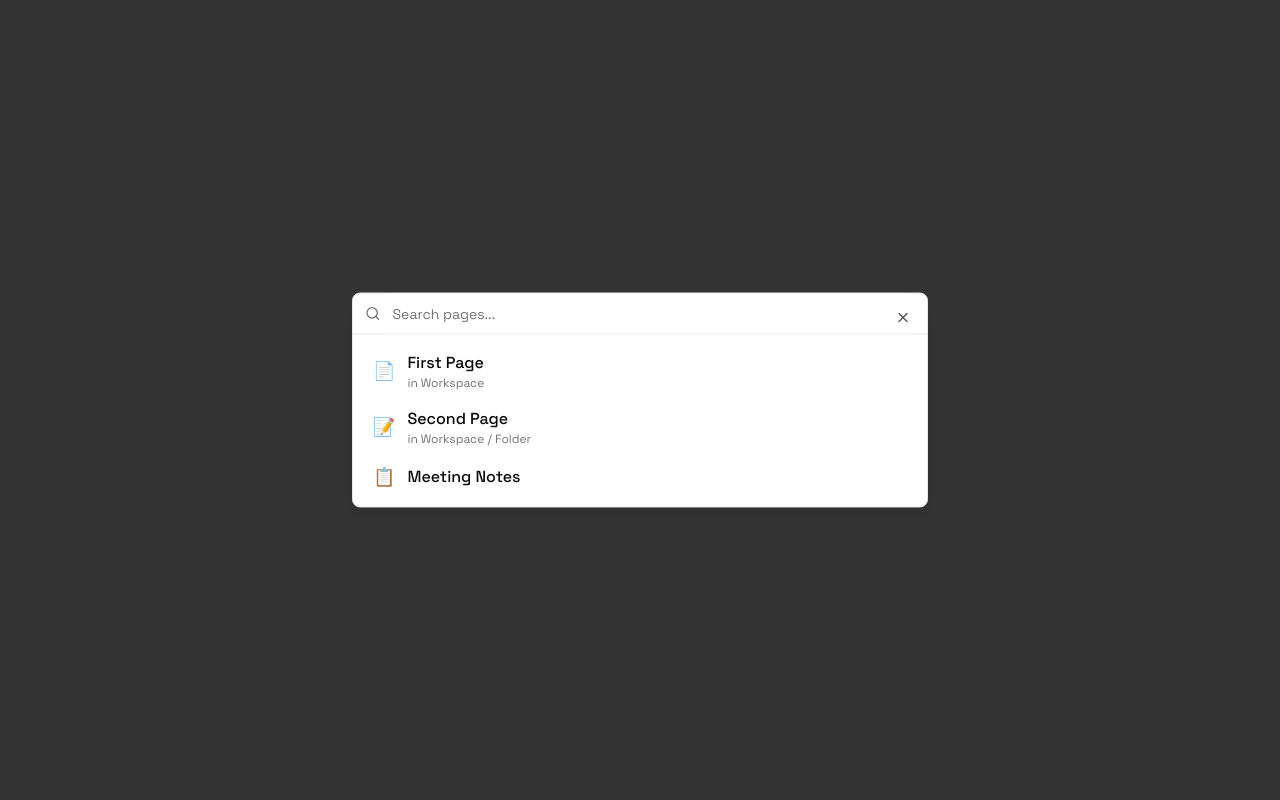
Test: SearchDialog › search functionality › should filter pages by content
In the field with placeholder "Search pages...": [648, 314] box x1=380 y1=294 x2=915 y2=334, type "Hello"
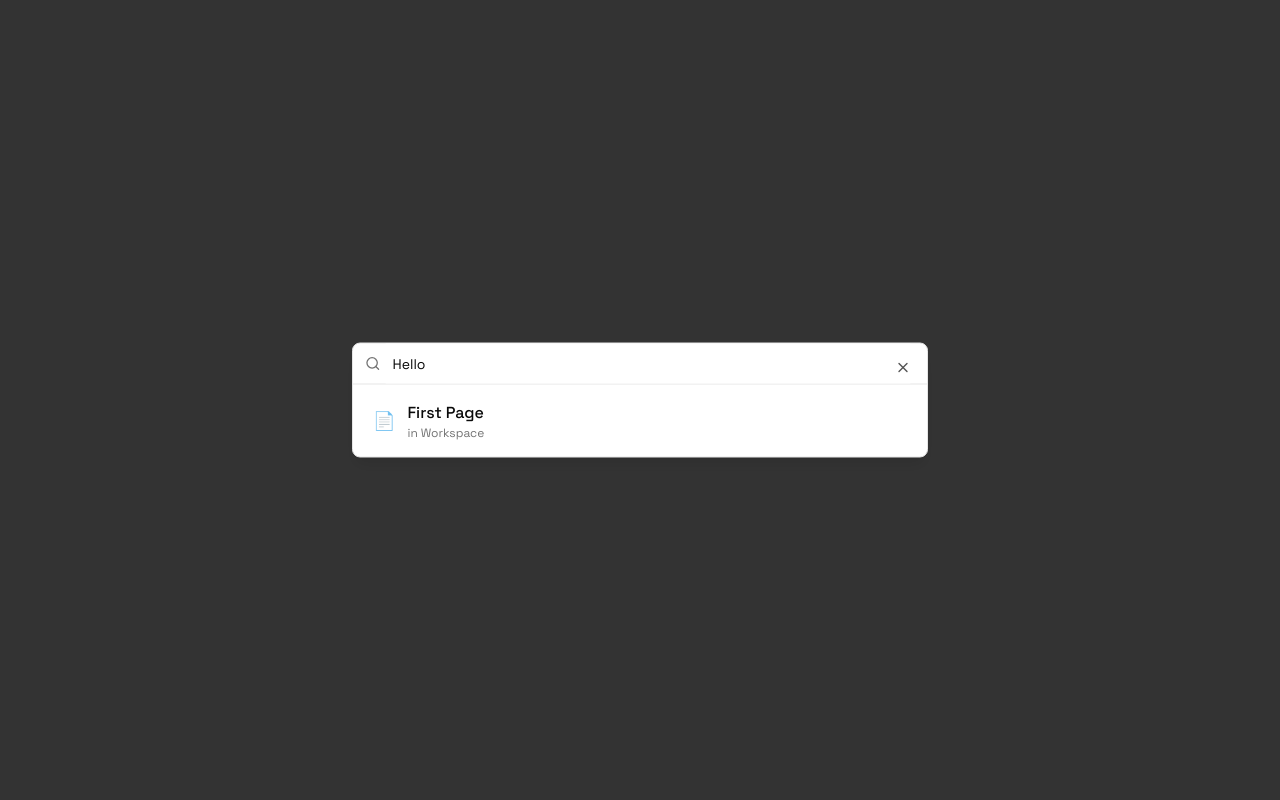
Expected: the text "First Page" is shown, x1=408 y1=402 x2=484 y2=422
Expected: the button "Second Page" is gone
